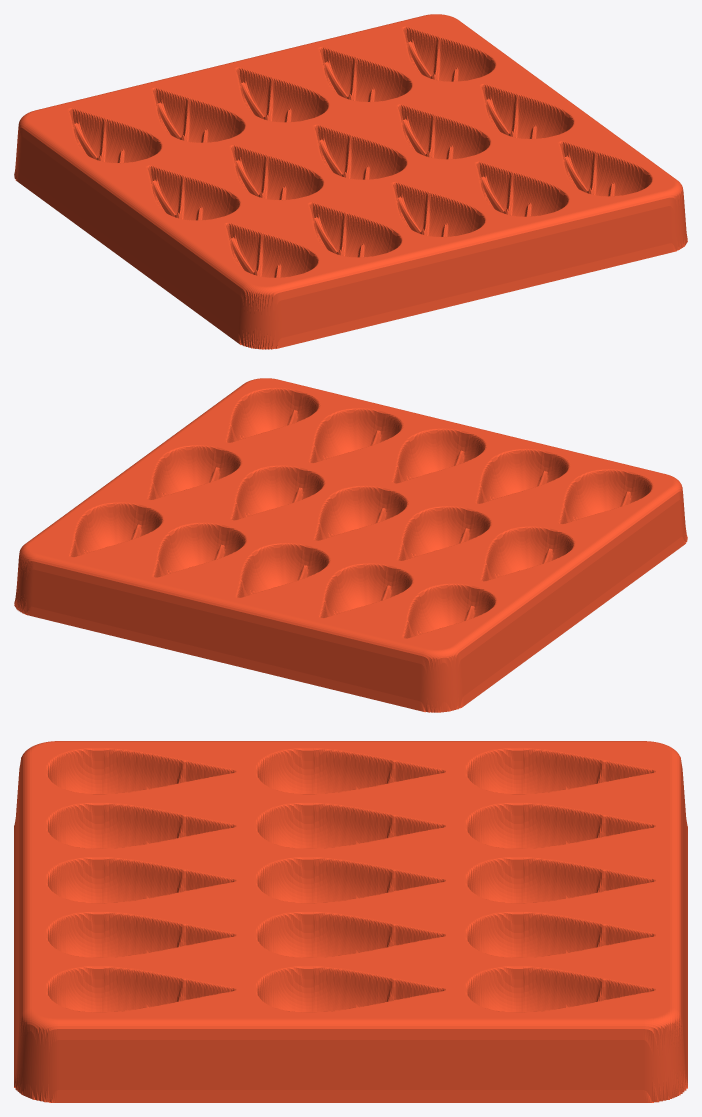
The model's file is mold.glb.
The picture shows the model from 3 angles, top to bottom: view 1: azimuth 30°, elevation 25°; view 2: azimuth 150°, elevation 25°; view 3: azimuth 270°, elevation 25°; orthographic projection. The views are drawn at different scales.
Visible parts, largest first — view 1: geometry_0; view 2: geometry_0; view 3: geometry_0.
Part boxes in pixels (x1,y1,x2,y2): geometry_0: (14,14,687,349); geometry_0: (14,378,687,712); geometry_0: (14,741,687,1102).
Size of the model in its own units: 0.1425 by 0.0175 by 0.1392.
